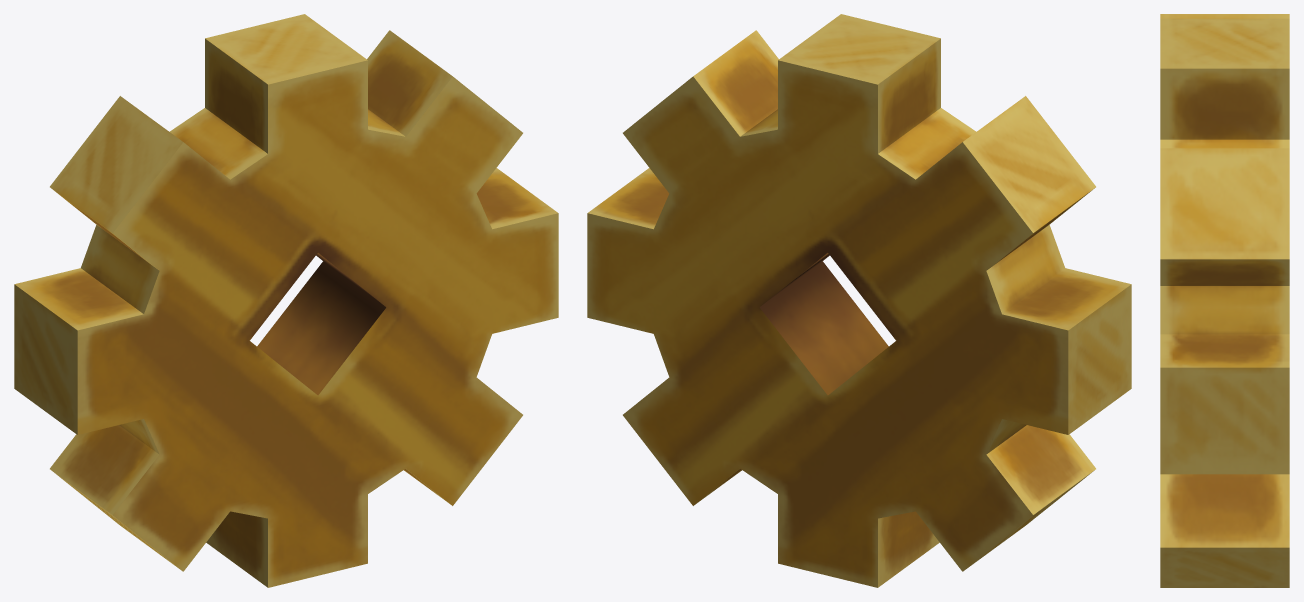
Rendered from scrap_pickUp.fbx.
3 views of the same model, side by side, from view 1: azimuth 30°, elevation 25°; view 2: azimuth 150°, elevation 25°; view 3: azimuth 270°, elevation 25° (orthographic). The views are drawn at different scales.
Parts seen in each view (by area): view 1: scrap; view 2: scrap; view 3: scrap.
Part boxes in pixels (x1=…): scrap: x1=14, y1=14, x2=558, y2=587; scrap: x1=587, y1=14, x2=1131, y2=587; scrap: x1=1160, y1=14, x2=1289, y2=587.
Bounding box in the file's own units: 6.83 × 30 × 30.
